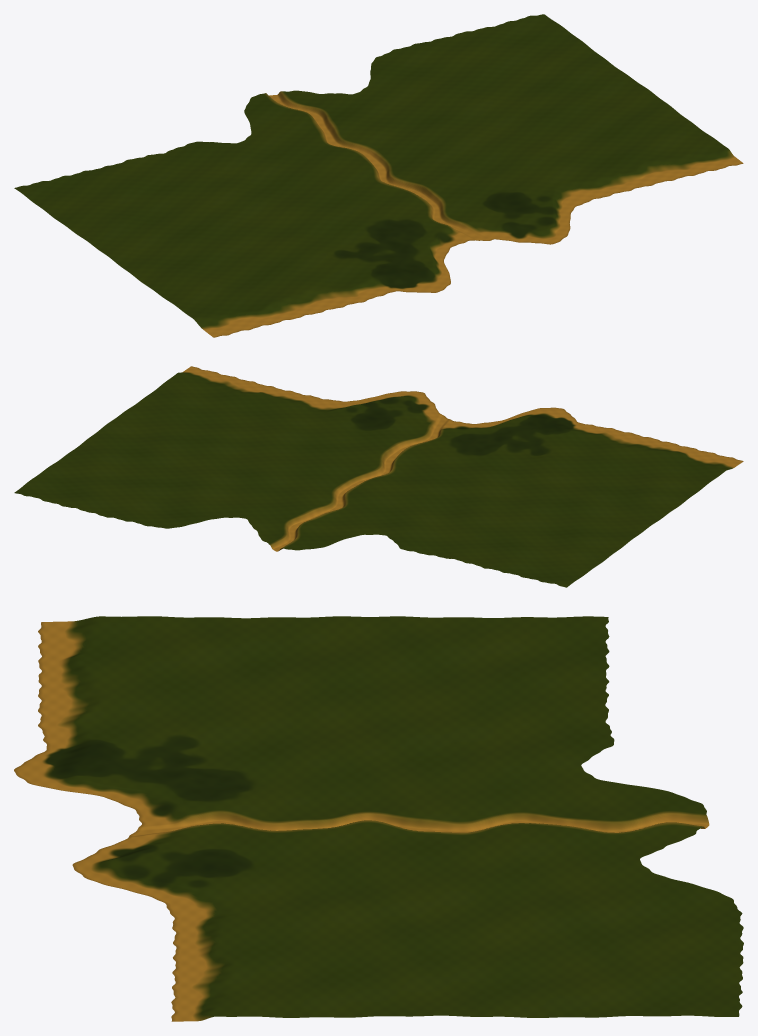
File: BayGround.fbx
3 renders of one model, top to bottom at view 1: azimuth 30°, elevation 25°; view 2: azimuth 150°, elevation 25°; view 3: azimuth 270°, elevation 25°, orthographic. The views are drawn at different scales.
Visible parts, largest first — view 1: BayGround; view 2: BayGround; view 3: BayGround.
Boxes of the visible parts, x1,y1,x2,y2 form: BayGround: (14, 14, 743, 337); BayGround: (14, 366, 743, 587); BayGround: (14, 616, 743, 1021).
Size of the model in its own units: 20000 by 185 by 15438.
